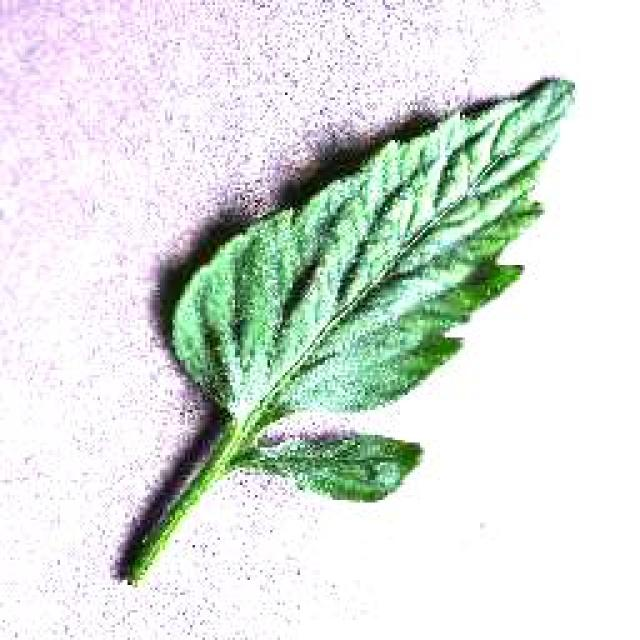Tomato___Tomato_mosaic_virus: (128, 80, 572, 580)
